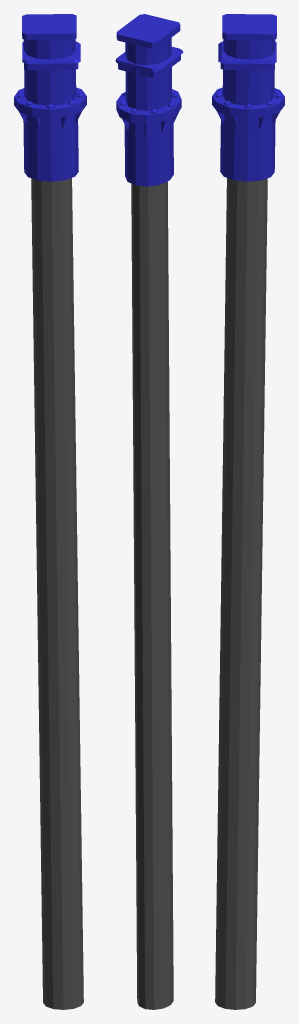
File: SM_pillar_rollercoaster.fbx
The picture shows the model from 3 angles, left to right: view 1: azimuth 90°, elevation 25°; view 2: azimuth 150°, elevation 25°; view 3: azimuth 270°, elevation 25°; orthographic projection.
Parts seen in each view (by area): view 1: Cylinder059; view 2: Cylinder059; view 3: Cylinder059.
Part boxes in pixels (<box>): Cylinder059: <box>14,14,86,1009</box>; Cylinder059: <box>115,14,183,1009</box>; Cylinder059: <box>212,14,284,1009</box>.
Bounding box in the file's own units: 38.88 × 670 × 45.25.
